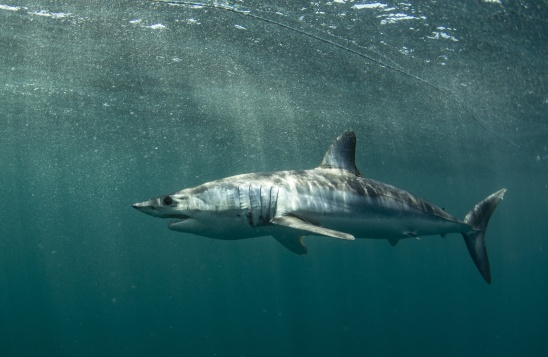Mako: (116, 128, 511, 293)
